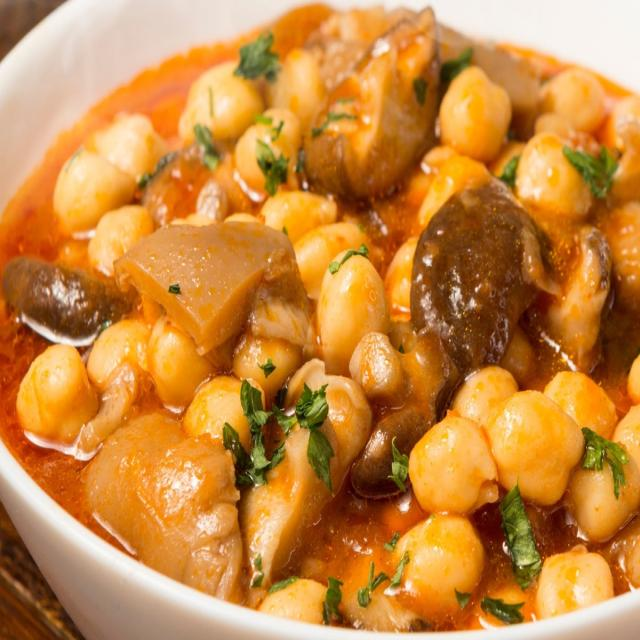garbanzos: (0, 0, 637, 638)
